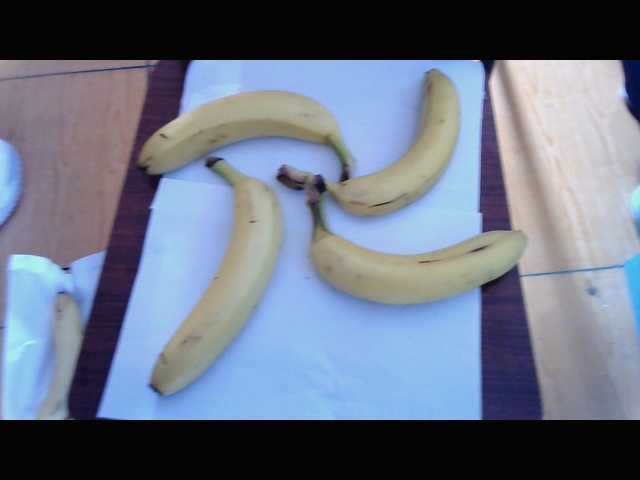banana: (151, 163, 286, 392), (133, 83, 356, 175), (309, 213, 526, 303), (343, 64, 465, 220)
